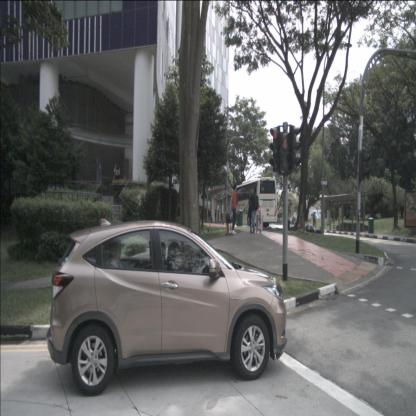human-pedestrian-adult: (226, 184, 237, 236), (245, 186, 255, 233), (250, 186, 258, 233), (114, 163, 120, 196), (224, 204, 228, 223), (313, 212, 316, 229)
vehicle-bus-rigid: (233, 177, 278, 229)
vehicle-car: (47, 221, 286, 397)
